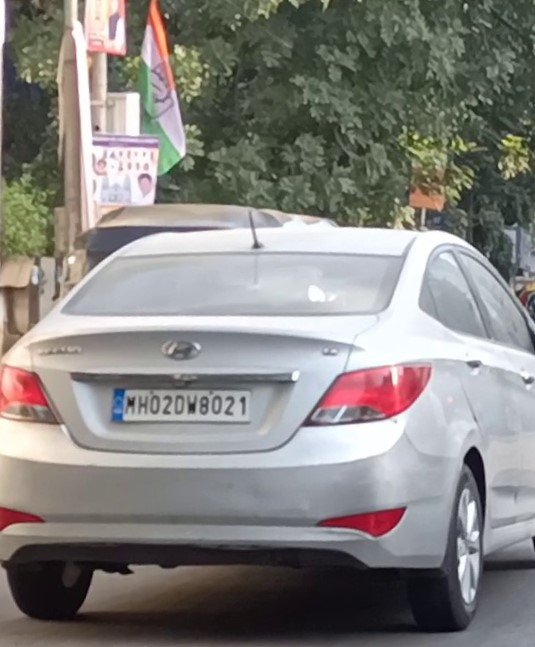MH02DW8021: (111, 388, 254, 425)
